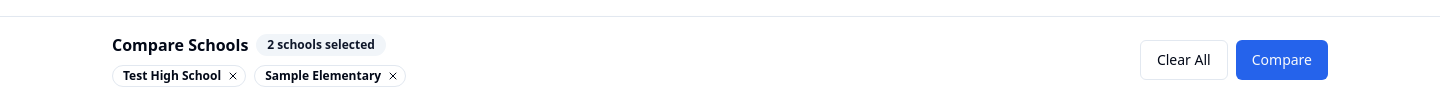
Scenario: ComparisonBasket › removes school when X button clicked
The image size is (1440, 103).
Click the button named "remove": coordinates (233, 76) 225,68 -> 241,84
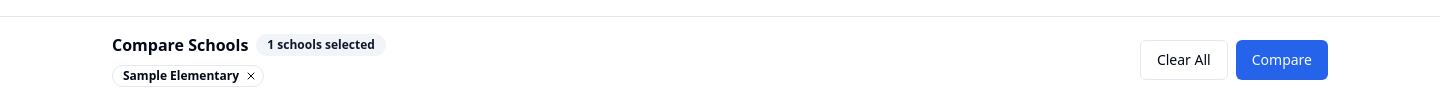
Expected: the text "Test High School" is gone
